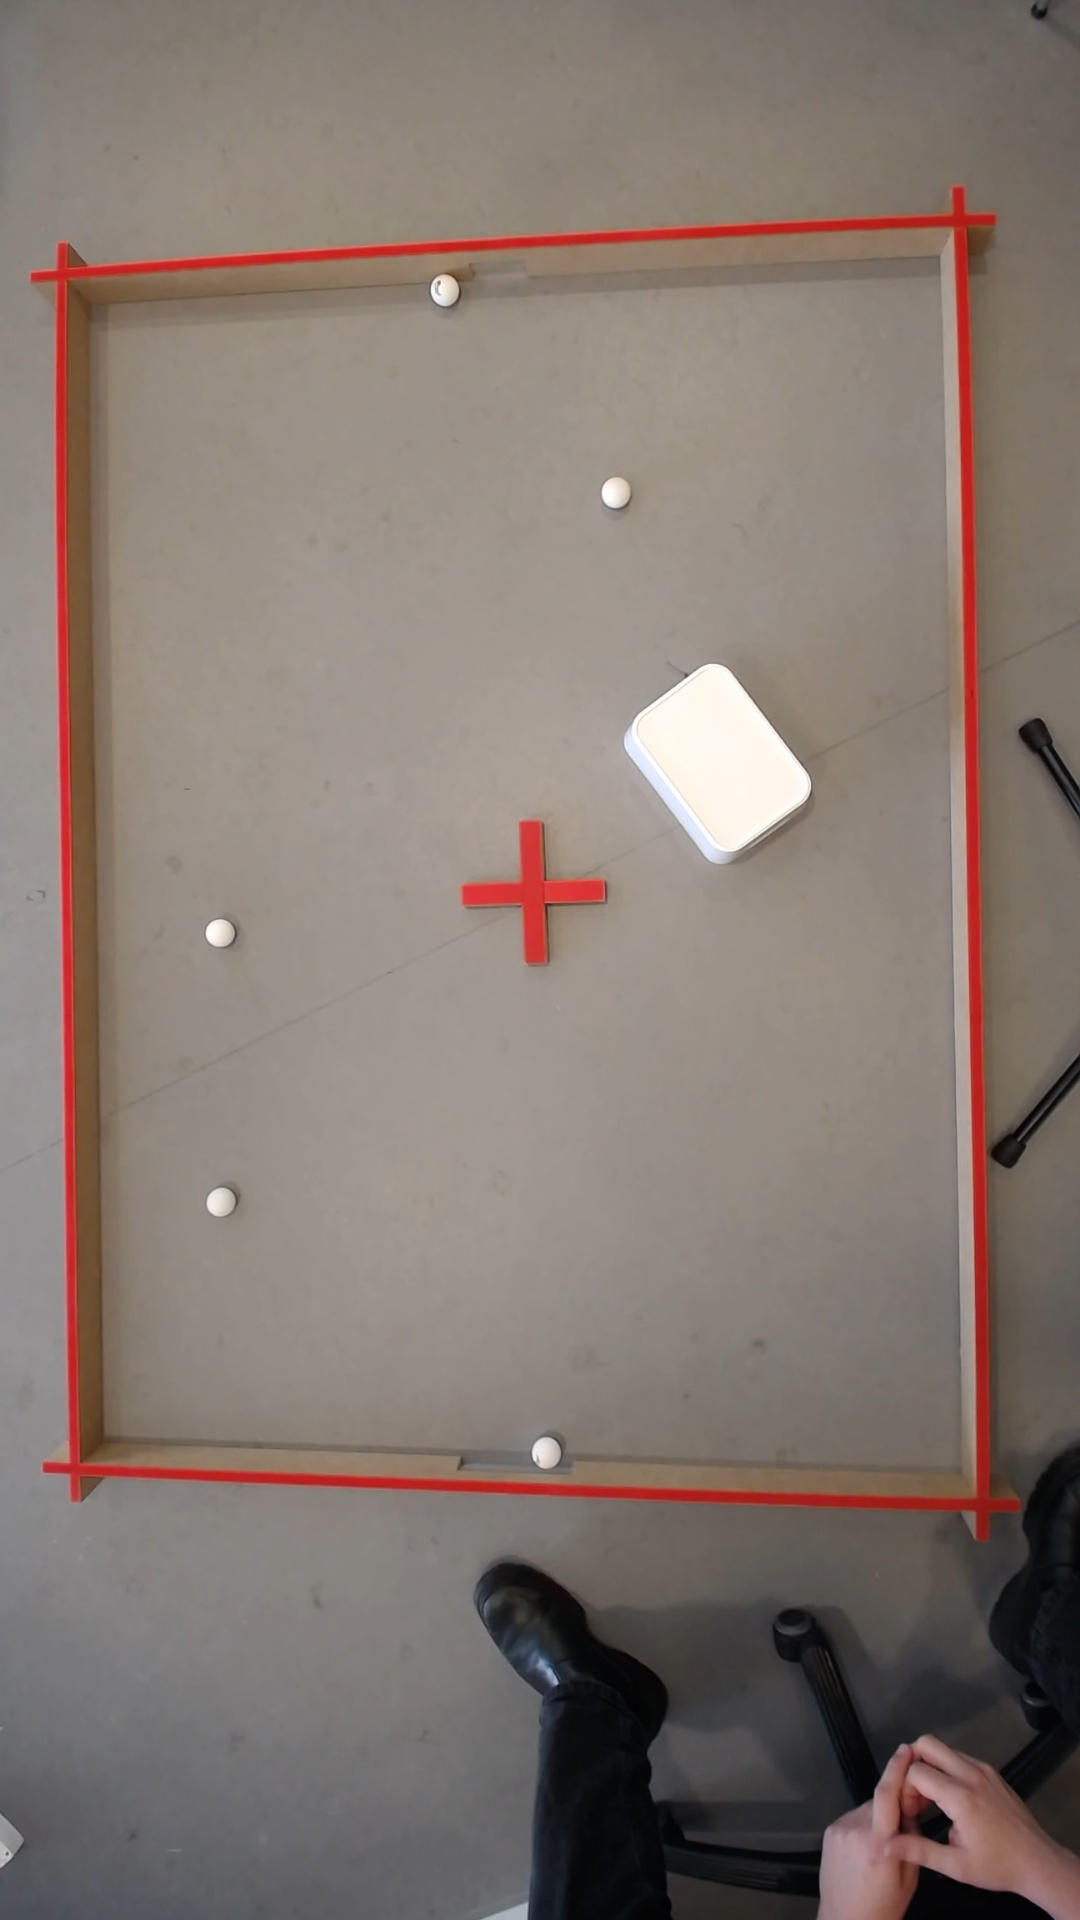balls: (611, 653, 819, 869), (914, 1774, 960, 1817), (525, 1432, 563, 1470), (595, 472, 630, 510), (423, 270, 458, 307), (200, 914, 232, 948), (206, 1188, 227, 1215)
car: (845, 1841, 865, 1867)
